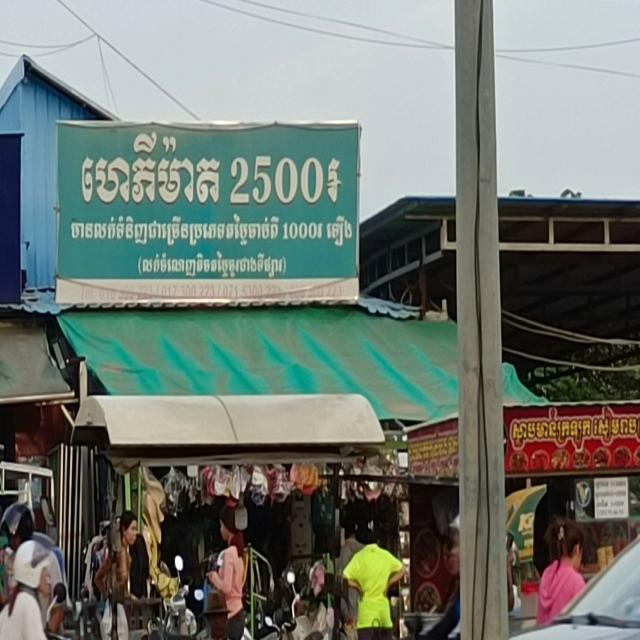37: (66, 210, 356, 248)
55: (74, 125, 348, 212)
Yolov11kh: (506, 403, 640, 455), (133, 246, 288, 279)
